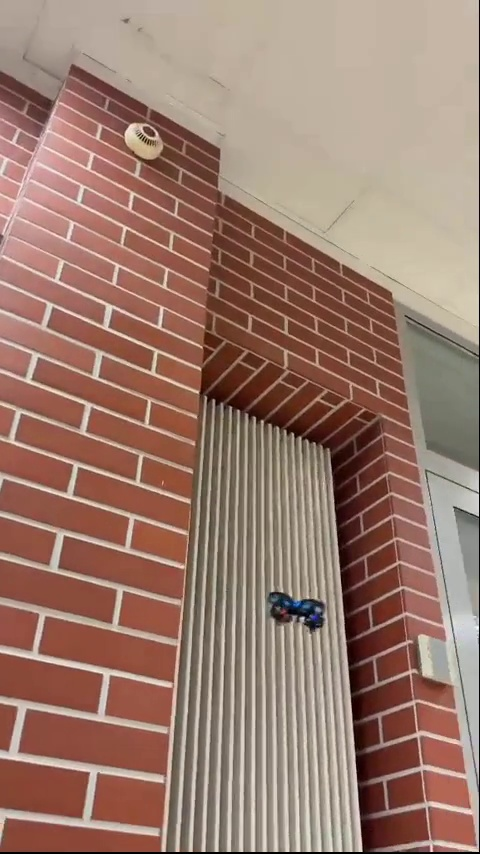drone: (263, 588, 328, 633)
